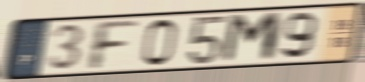0: (140, 17, 180, 68)
3: (46, 22, 87, 73)
5: (186, 15, 229, 67)
9: (278, 10, 320, 60)
F: (88, 19, 141, 72)
M: (218, 10, 285, 66)
